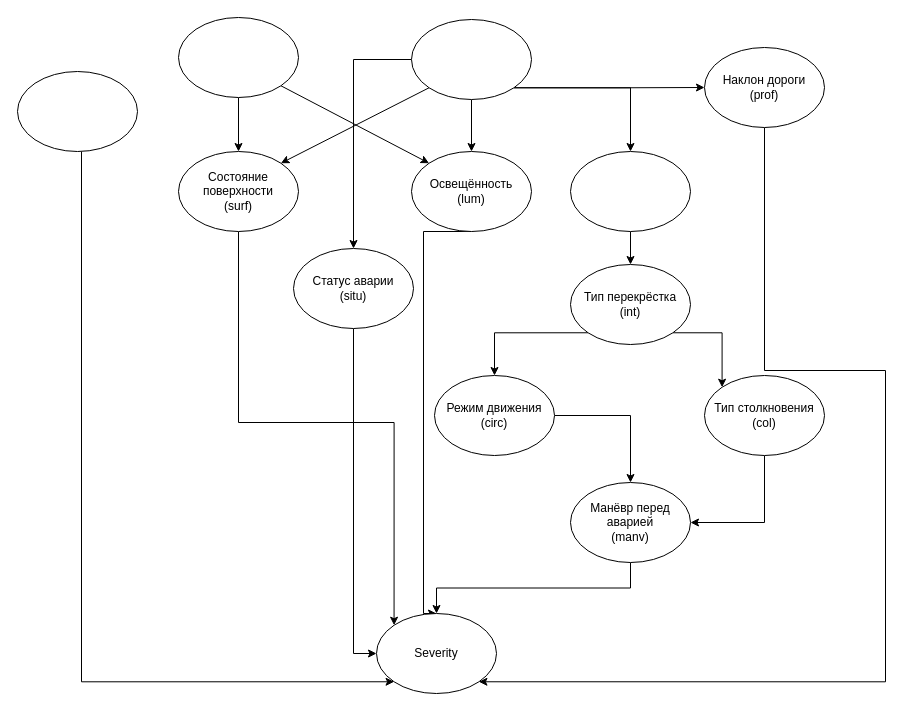
This 911x711 diagram has some shape labels left out. The centre of each missing label's shape, as x and y in pixels:
Атмосферные условия (atm): point 238,57
Инфраструктура около аварии (infra): point 471,59
Категория авто (catv): point 77,111
Категория маршрута (catr): point 630,191
